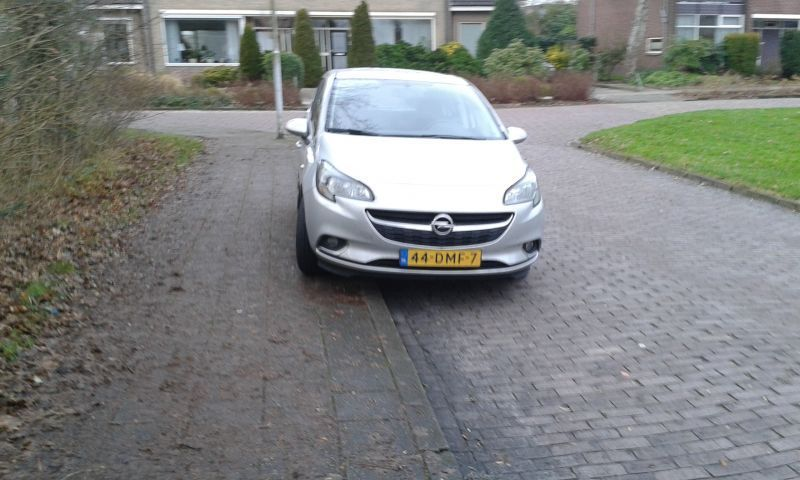kenteken: (396, 247, 482, 270)
